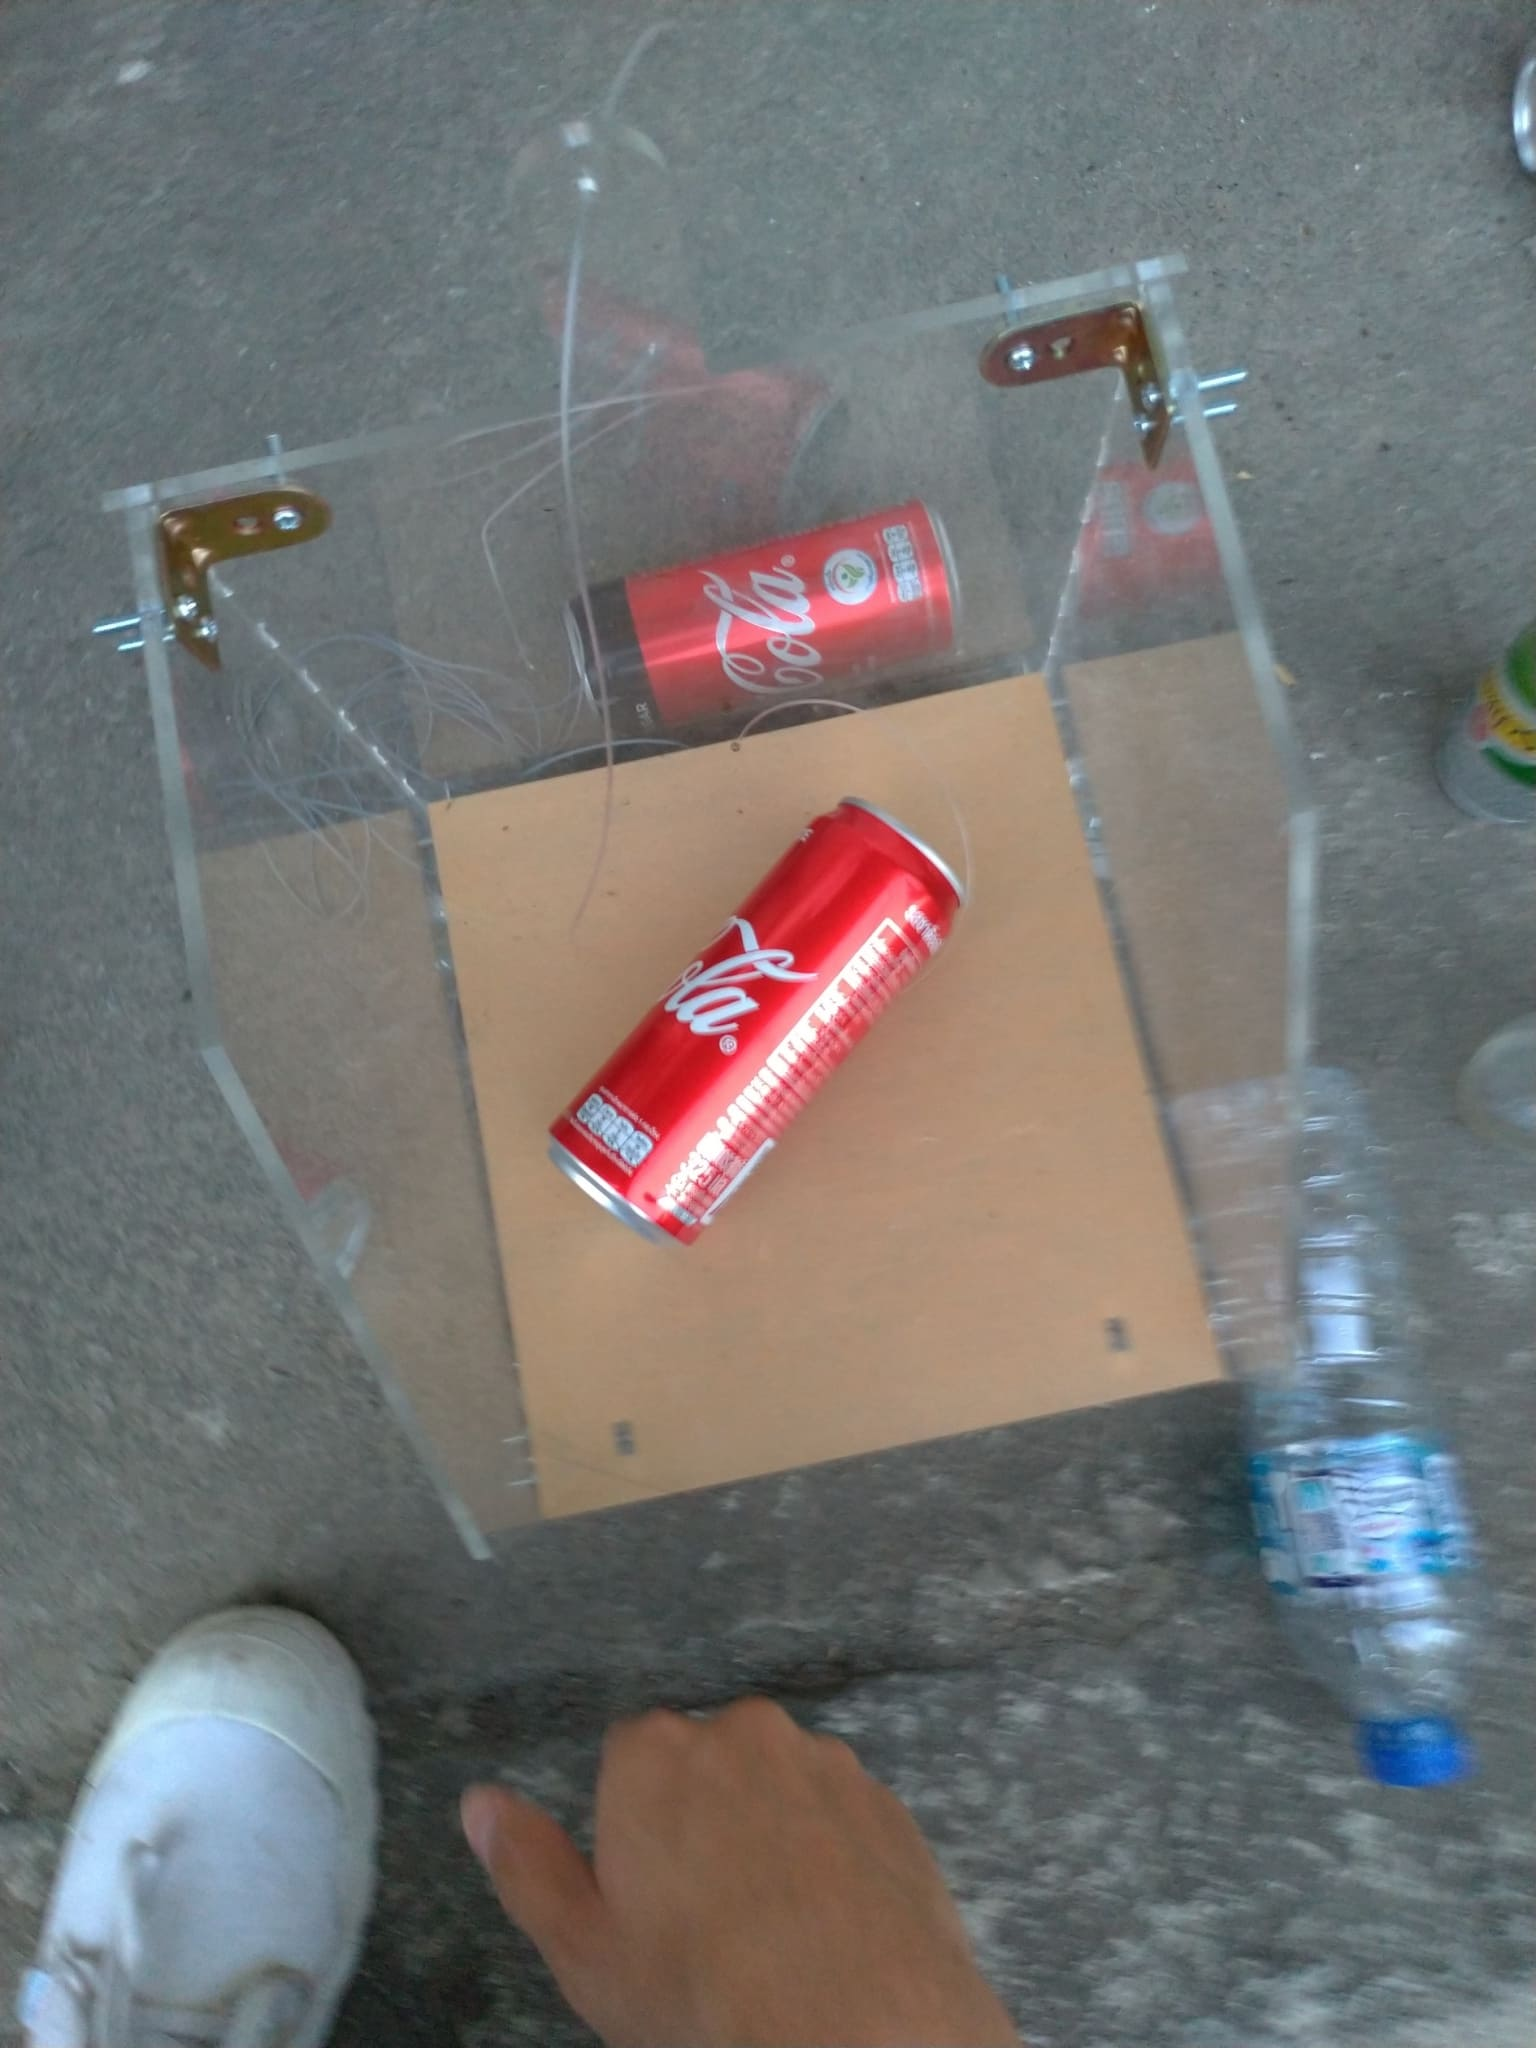AlCan: (557, 795, 975, 1255), (570, 498, 971, 735), (1434, 589, 1536, 840)
PlasticBottle: (1160, 1061, 1475, 1787)
